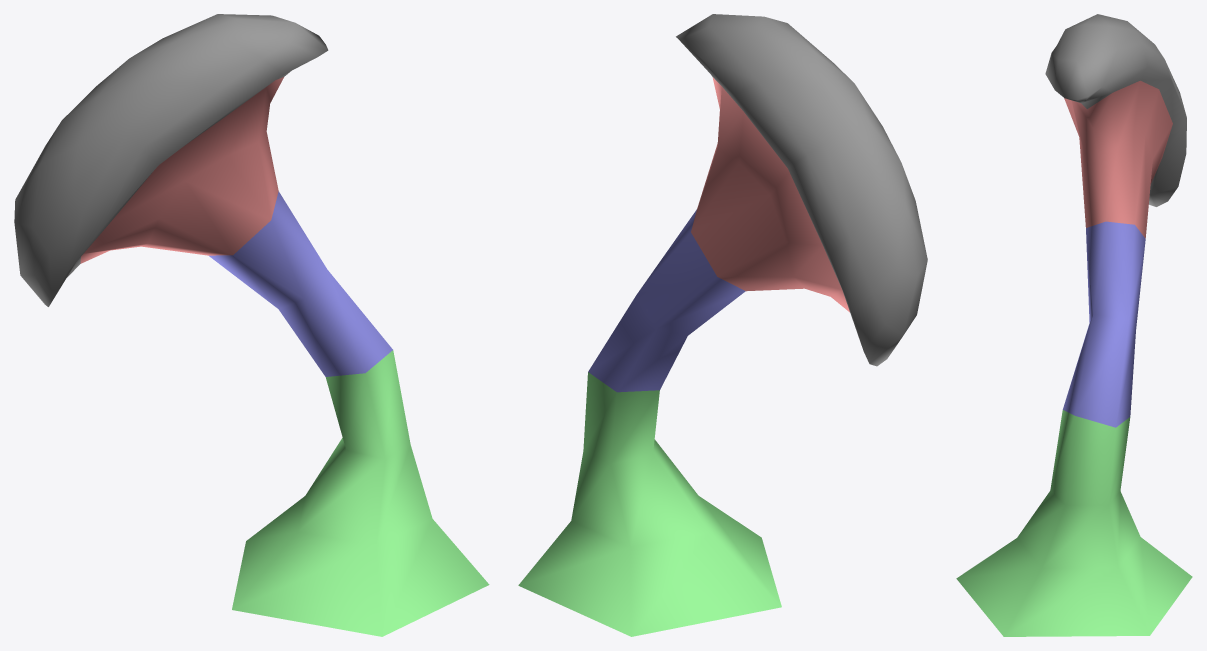
The model's file is Sporemushroom3.gltf.
The picture shows the model from 3 angles, left to right: view 1: azimuth 30°, elevation 25°; view 2: azimuth 150°, elevation 25°; view 3: azimuth 270°, elevation 25°; orthographic projection. The views are drawn at different scales.
Parts seen in each view (by area): view 1: Sporemushroom3; view 2: Sporemushroom3; view 3: Sporemushroom3.
Boxes of the visible parts, left/top/right/bottom form: Sporemushroom3: left=14, top=14, right=489, bottom=636; Sporemushroom3: left=518, top=14, right=927, bottom=636; Sporemushroom3: left=956, top=14, right=1192, bottom=636.
Size of the model in its own units: 1.72 by 2.43 by 0.999.
